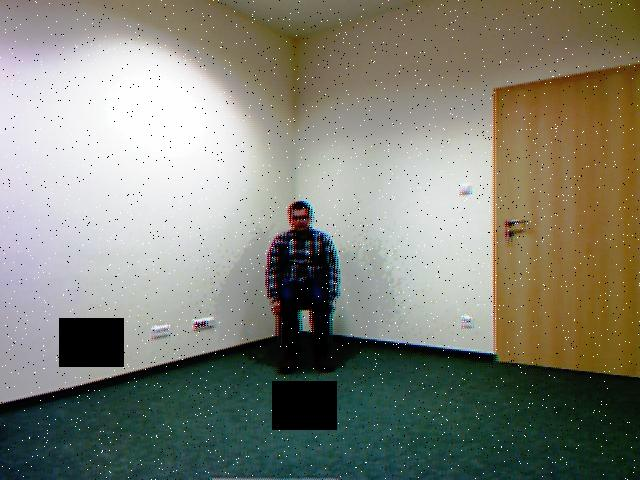sitting: (262, 188, 347, 376)
